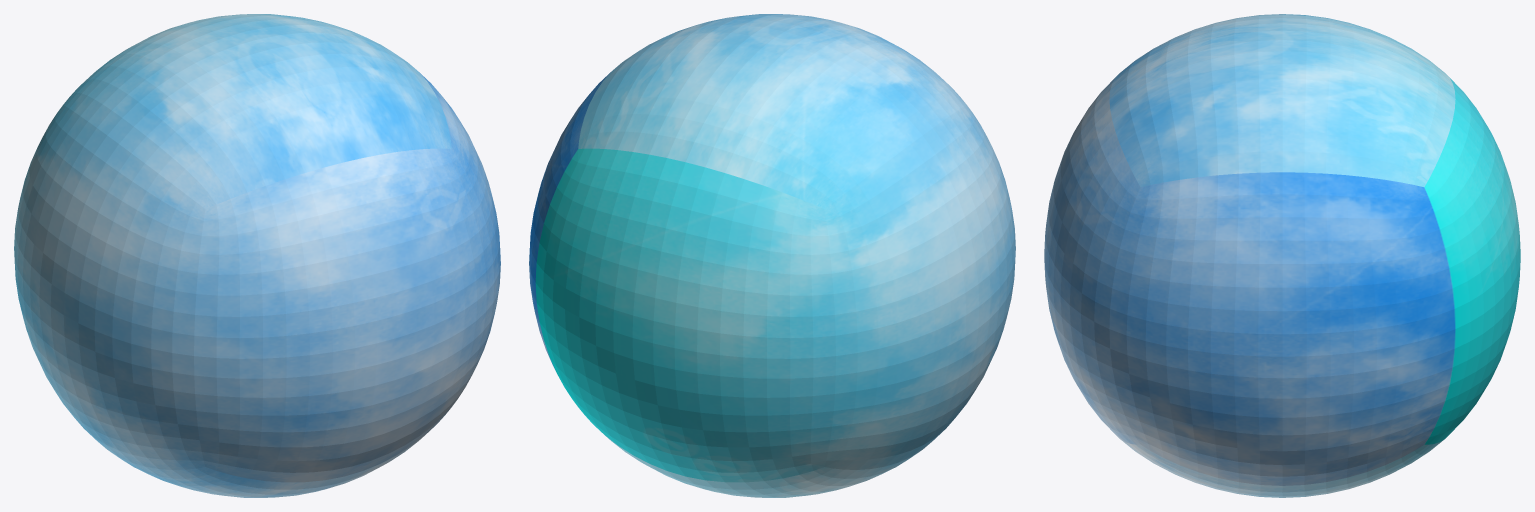
File: skyDome.obj
3 views of the same model, side by side, from view 1: azimuth 30°, elevation 25°; view 2: azimuth 150°, elevation 25°; view 3: azimuth 270°, elevation 25° (orthographic).
Visible parts, largest first — view 1: 立方体; view 2: 立方体; view 3: 立方体.
Boxes of the visible parts, x1=… form: 立方体: x1=14, y1=14, x2=500, y2=497; 立方体: x1=529, y1=14, x2=1015, y2=497; 立方体: x1=1044, y1=14, x2=1520, y2=497.
Size of the model in its own units: 1.68 by 1.68 by 1.68.
